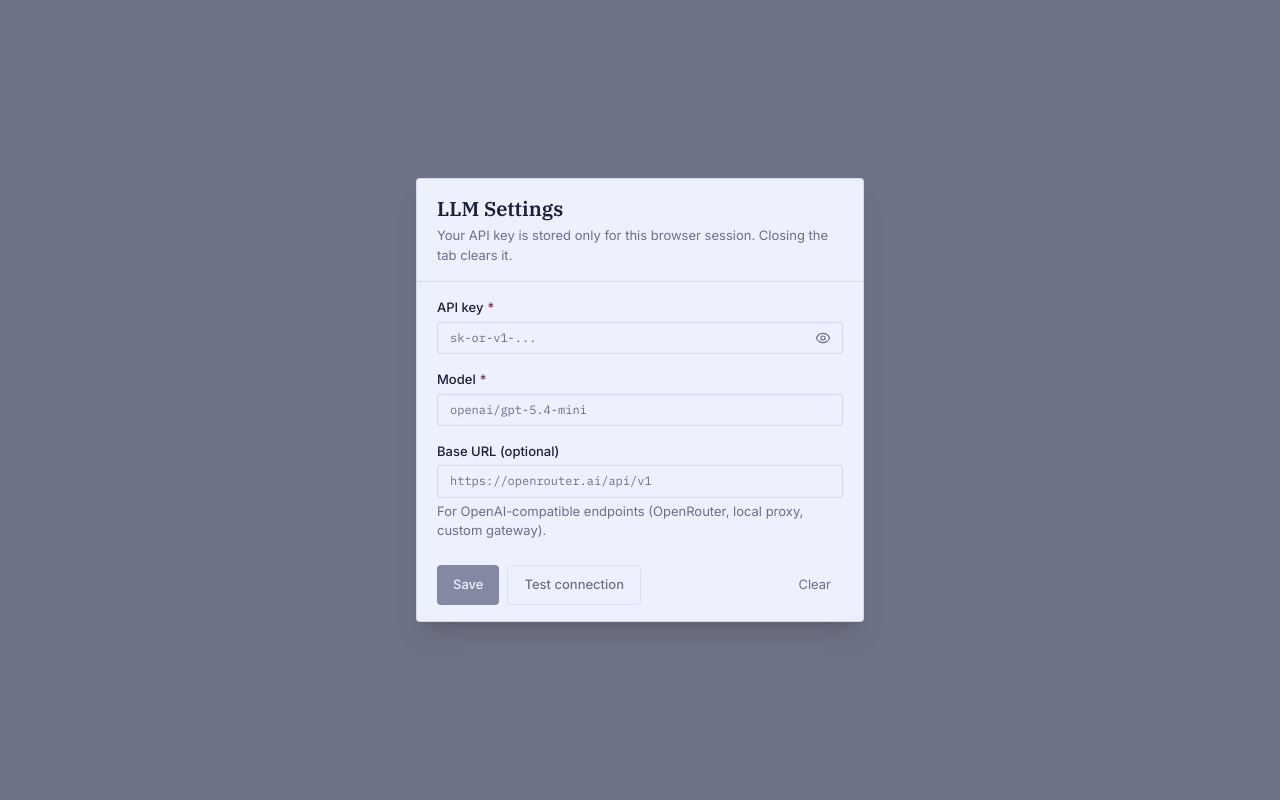
Test case: SettingsModal › Test connection surfaces server error detail on non-2xx response
In the password field labelled "API key*": (640, 338) [437,322,843,354], type "sk-test"
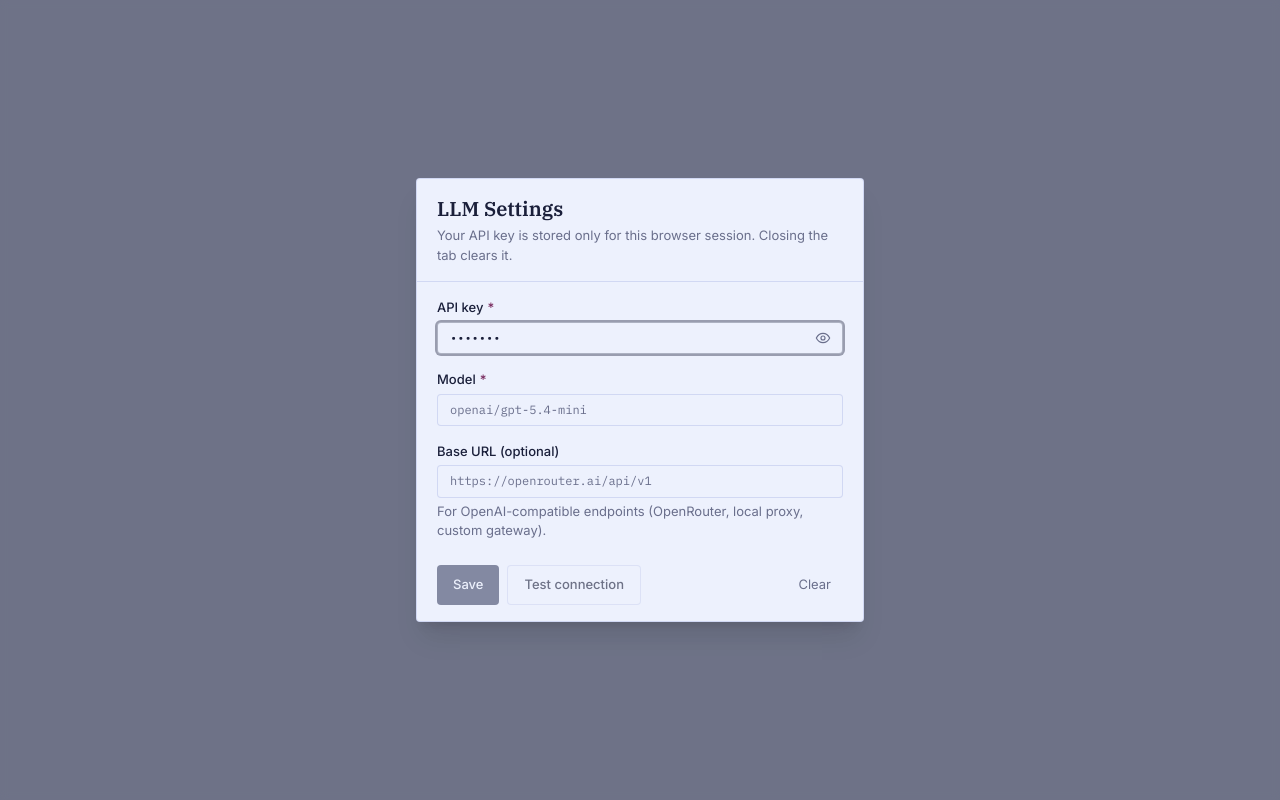
In the field labelled "Model*": (640, 410) [437,394,843,426], type "x/y"
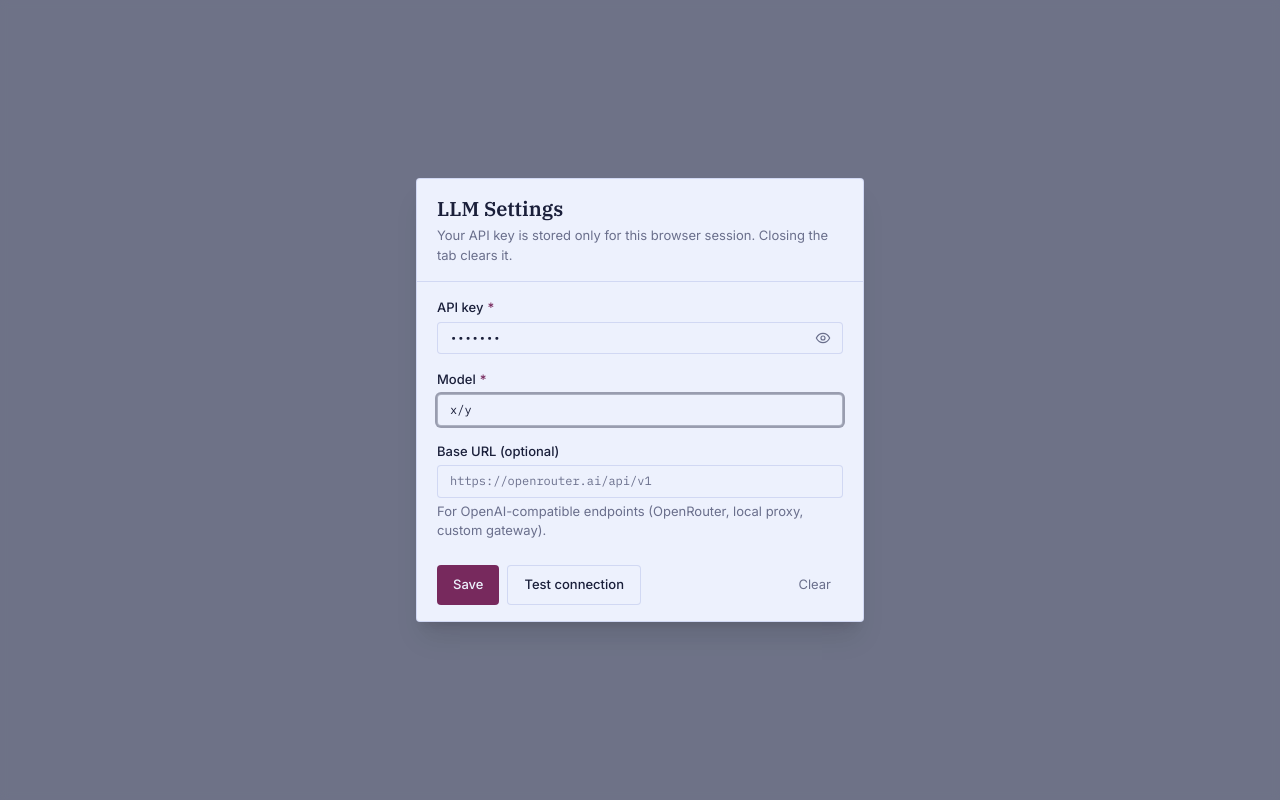
Click the button "Test connection": (574, 585) [508,565,641,605]
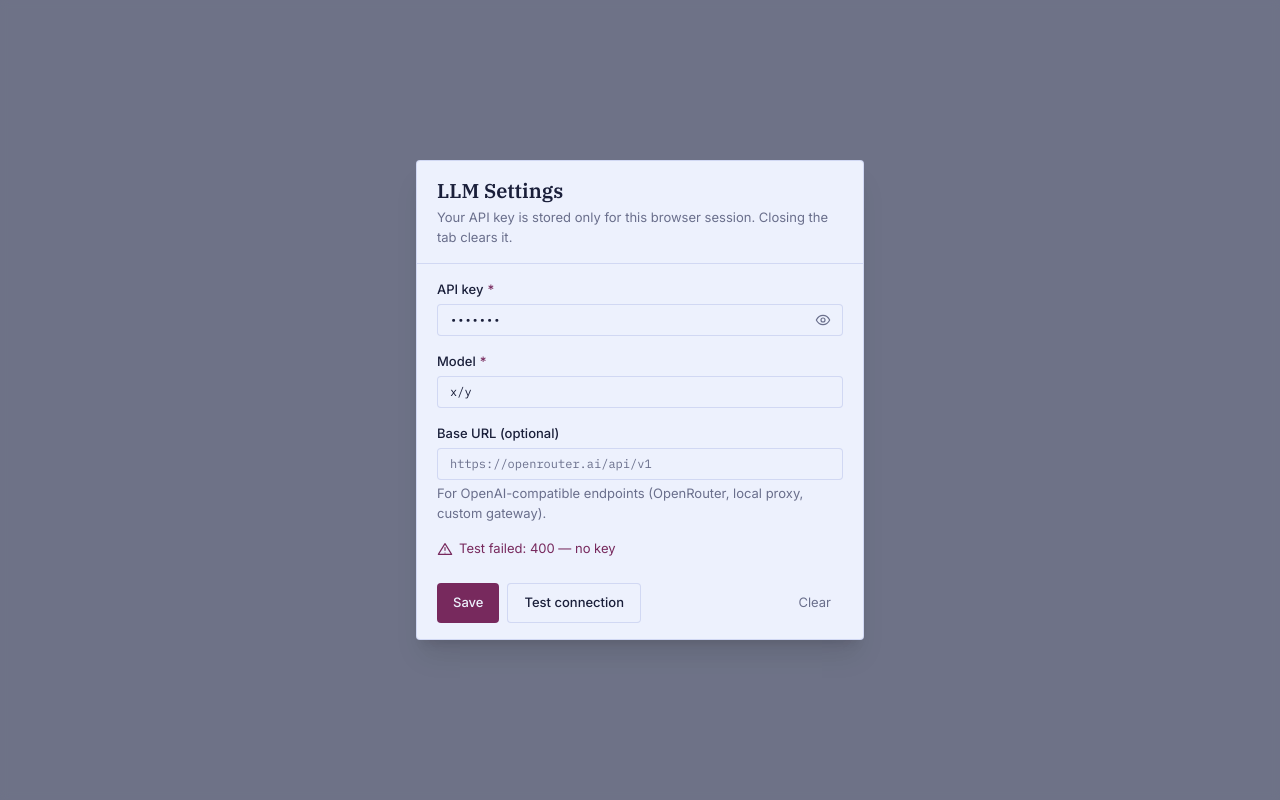
Expected: the text "Test failed: 400 — no key" is shown, [459,539,616,559]
